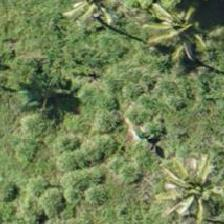coconut_tree: (139, 144, 223, 223), (101, 0, 191, 72), (32, 0, 122, 45)
